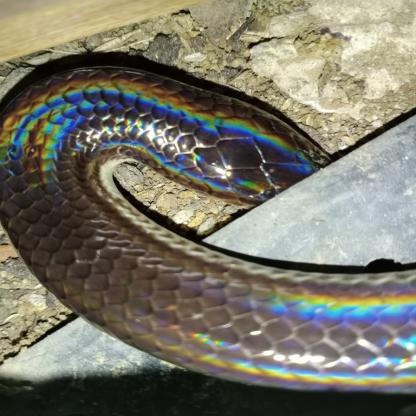Snake: (4, 52, 416, 388)
